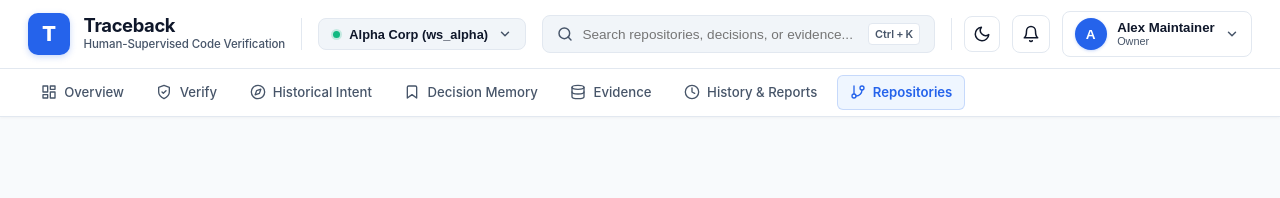
Navbar Component — Design #2: Elevated with Workspace Selector › renders notification control without fabricated counts and toggles notification panel
# Click toggles notification panel
Click the button named "notifications" at point(1031, 34), box [1012,15,1050,53]
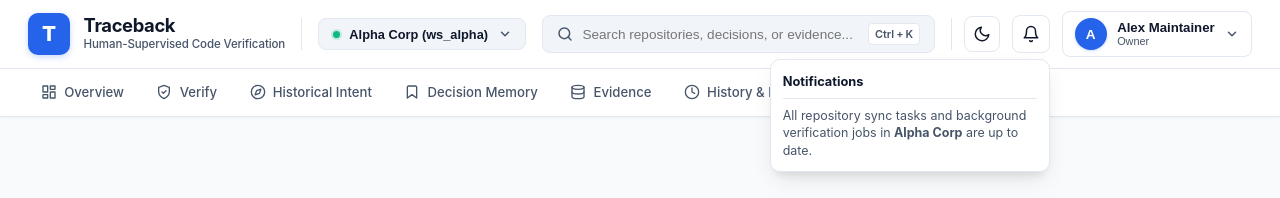
Expected: the text "All repository sync tasks and background verification jobs" is shown, [783,108,1026,140]
